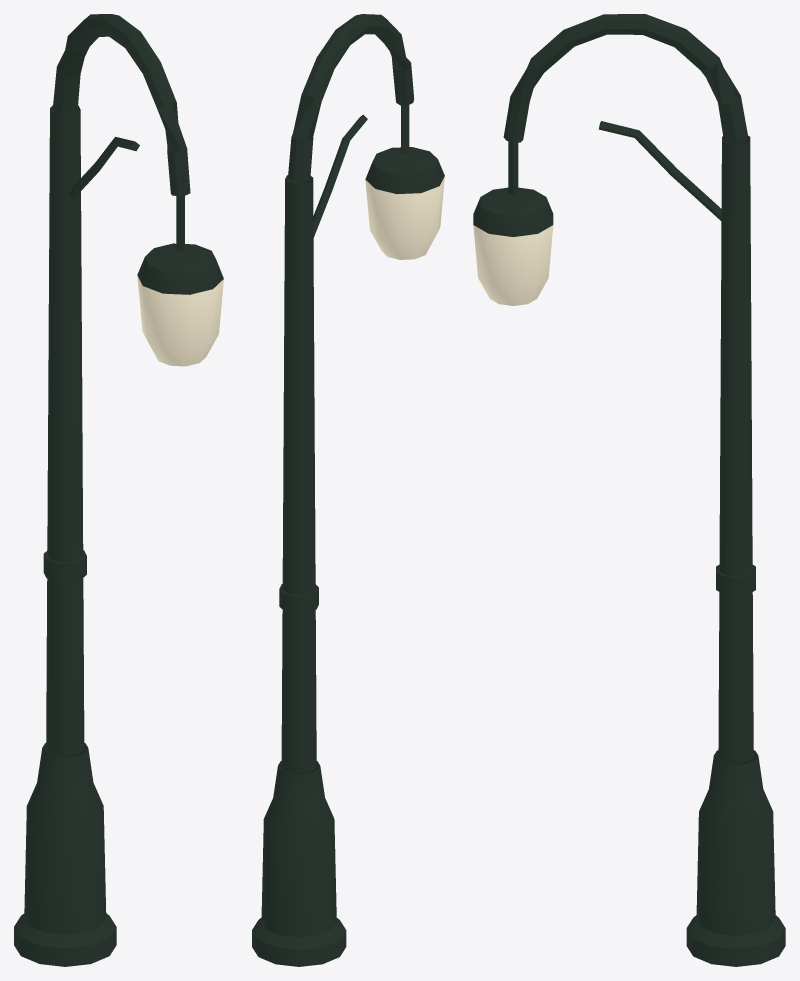
The model's file is nyc_park_lamp.glb.
3 renders of one model, left to right at view 1: azimuth 30°, elevation 25°; view 2: azimuth 150°, elevation 25°; view 3: azimuth 270°, elevation 25°, orthographic. The views are drawn at different scales.
Visible parts, largest first — view 1: nyc_park_lamp; view 2: nyc_park_lamp; view 3: nyc_park_lamp.
Boxes of the visible parts, x1,y1,x2,y2 form: nyc_park_lamp: [14, 14, 223, 966]; nyc_park_lamp: [252, 14, 444, 966]; nyc_park_lamp: [473, 14, 785, 966].
Size of the model in its own units: 0.4001 by 4.15 by 1.26.
1 material, 1 textured.
